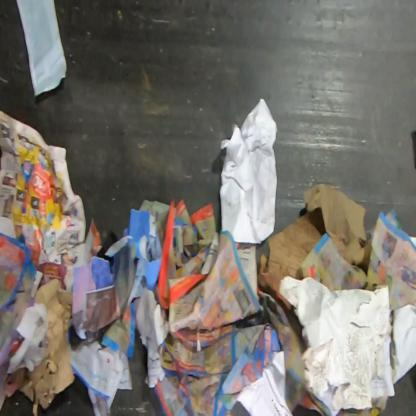cardboard: (257, 183, 373, 311), (4, 277, 77, 415)
soft_plastic: (11, 0, 68, 98)
